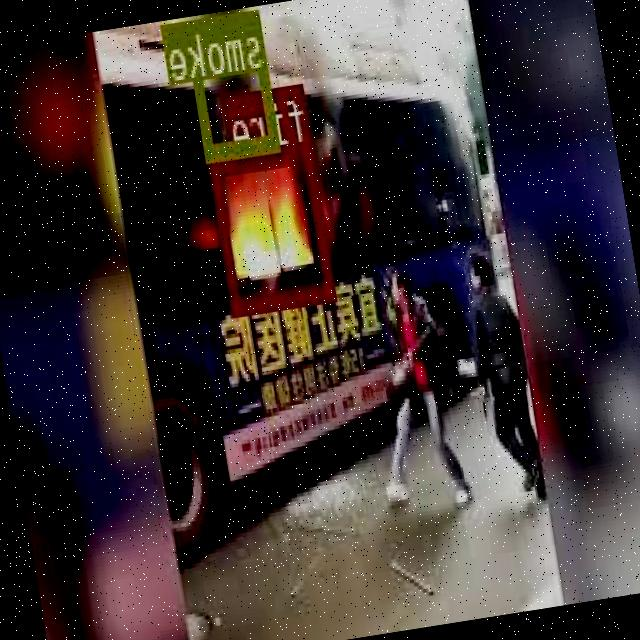fire: (210, 140, 338, 313)
smoke: (187, 5, 282, 156)
